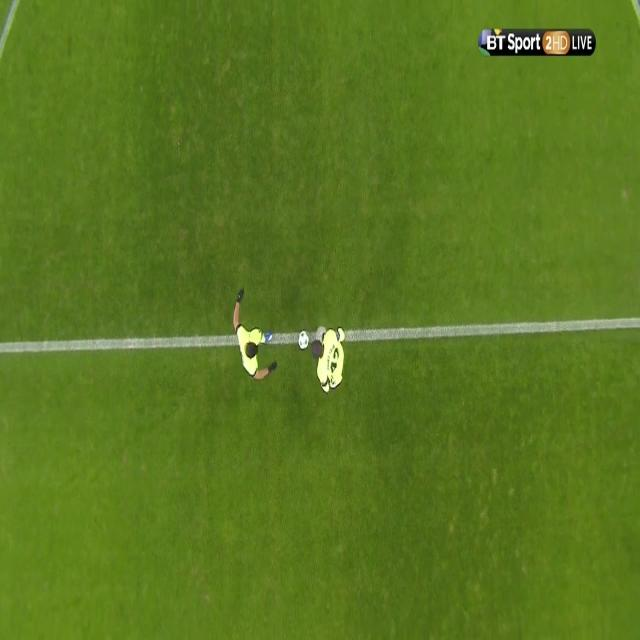Ball: (297, 327, 311, 356)
Player: (230, 284, 281, 384), (310, 320, 348, 394)
